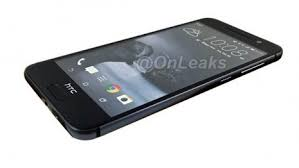htc: (17, 13, 286, 142)
